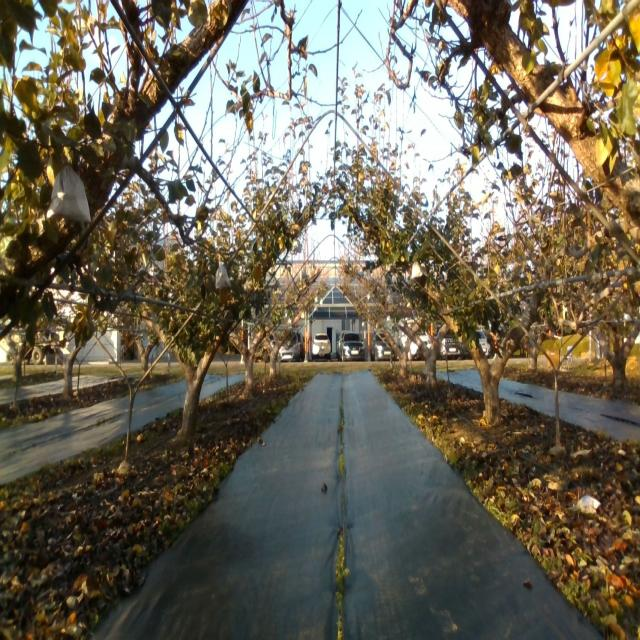pearbags: (47, 162, 91, 222), (215, 264, 230, 290), (411, 262, 423, 280)
